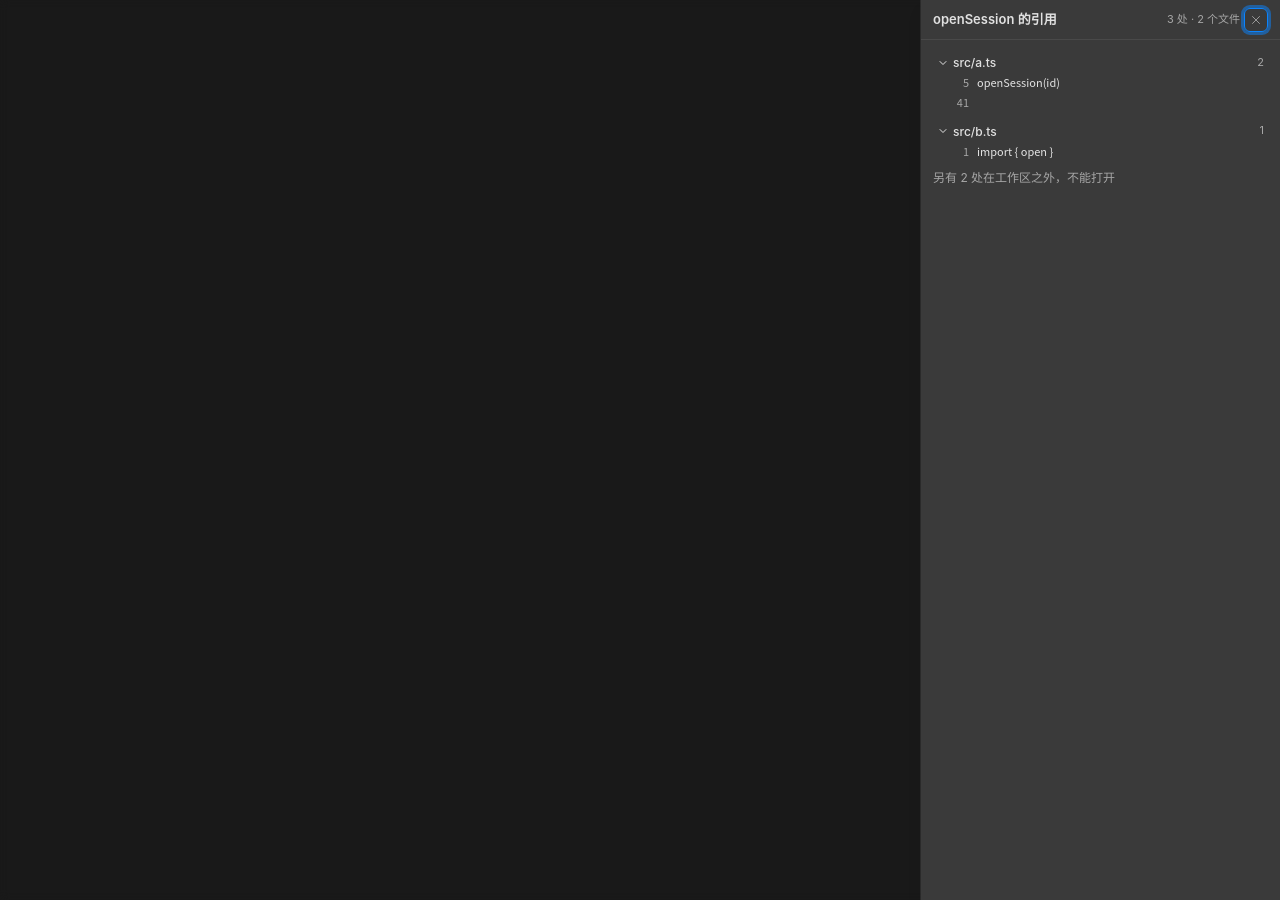
Test case: ReferencesPanel › collapses one file without losing the others
Click the button "src/a.ts 2" at (975, 62), box [933,52,1268,73]
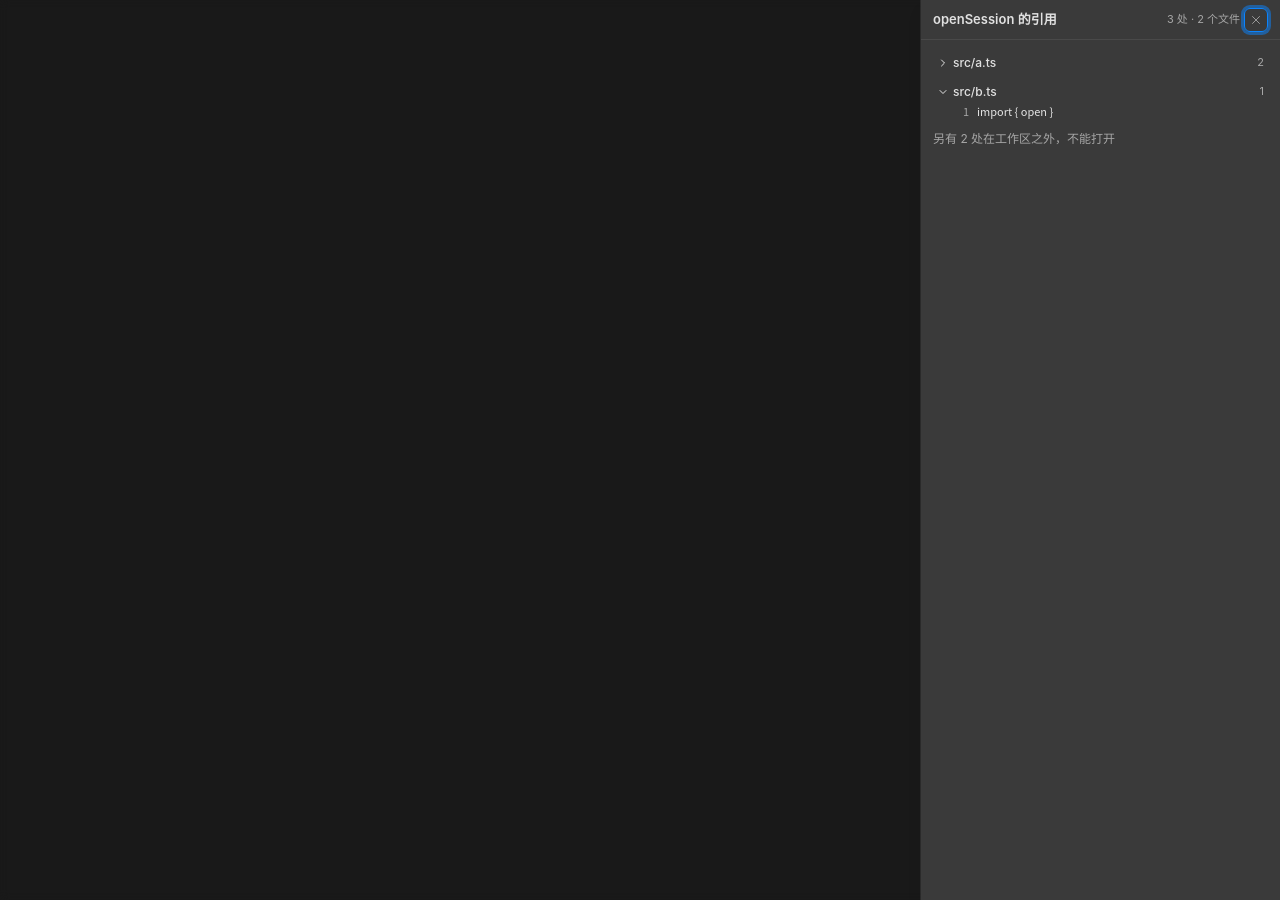
Expected: the button with aria-label "打开 src/b.ts 第 1 行" is shown, [933,102,1268,122]
Now the button "src/a.ts 2" is collapsed, box [933,52,1268,73]
